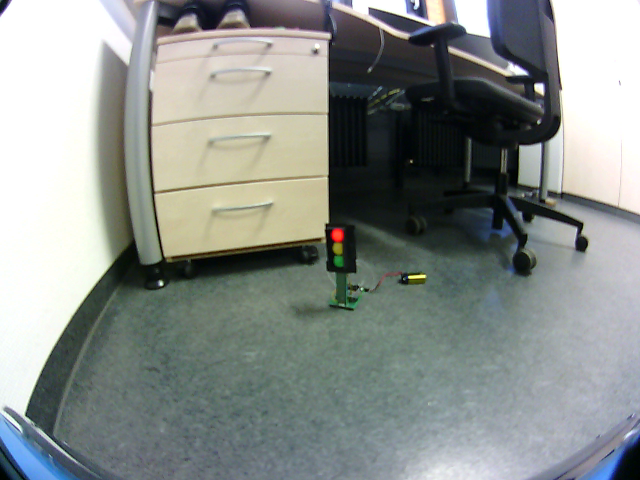red trafficlight: (329, 225, 348, 272)
